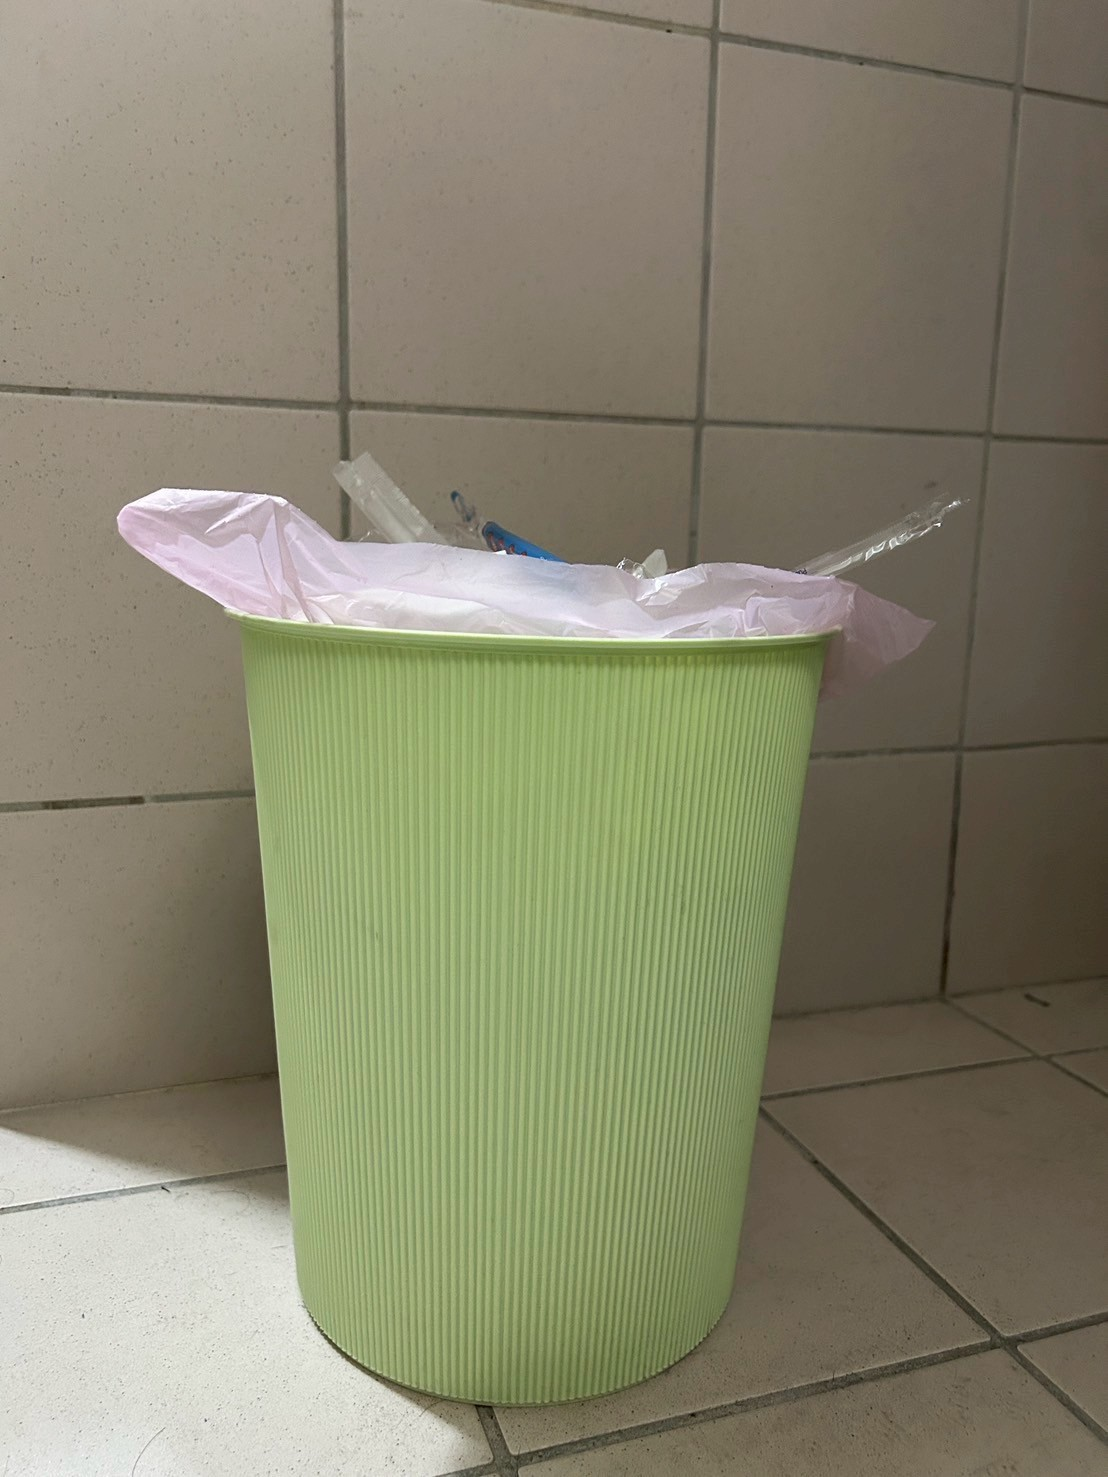overflow_bin: (100, 417, 1000, 1429)
